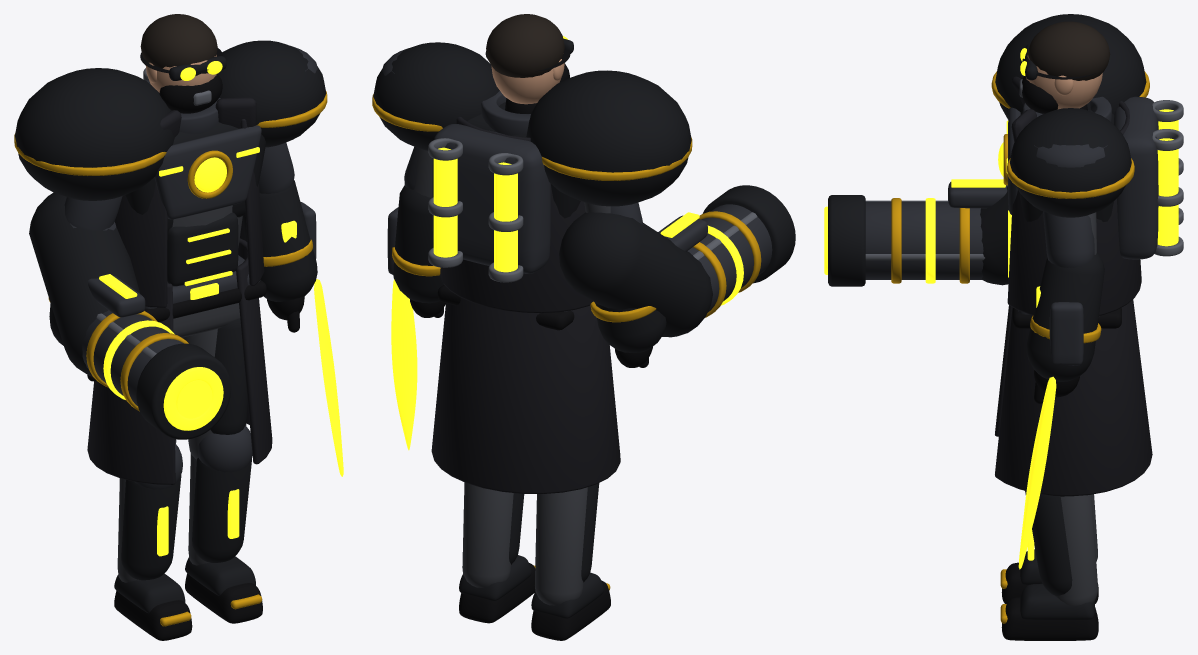
Rendered from engineermk2.glb.
3 views of the same model, side by side, from view 1: azimuth 30°, elevation 25°; view 2: azimuth 150°, elevation 25°; view 3: azimuth 270°, elevation 25° (orthographic). The views are drawn at different scales.
Visible parts, largest first — view 1: RightArmCannon, RightArm_Armor, Chest_Armor, Hips_Belt, LeftArm_Armor, LeftLeg_Armor, Head_Face, RightLeg_Armor, LeftForeArm_Armor, Spine_Armor, RightFoot_Boot, LeftFoot_Boot (+3 smaller); view 2: Hips_Belt, Chest_Armor, RightArmCannon, RightArm_Armor, LeftArm_Armor, RightLeg_Armor, Head_Face, LeftLeg_Armor, LeftForeArm_Armor, LeftBlade, RightFoot_Boot, LeftFoot_Boot (+1 smaller); view 3: Hips_Belt, Chest_Armor, RightArmCannon, LeftArm_Armor, Head_Face, LeftLeg_Armor, LeftForeArm_Armor, RightArm_Armor, LeftBlade, LeftFoot_Boot, RightFoot_Boot, LeftHand_Glove.
Part boxes in pixels (left/top/right/bottom): RightArmCannon: left=29, top=192, right=231, bottom=439; RightArm_Armor: left=14, top=68, right=174, bottom=230; Chest_Armor: left=114, top=68, right=265, bottom=307; Hips_Belt: left=87, top=238, right=272, bottom=484; LeftArm_Armor: left=217, top=40, right=327, bottom=193; LeftLeg_Armor: left=188, top=425, right=252, bottom=565; Head_Face: left=140, top=14, right=226, bottom=113; RightLeg_Armor: left=117, top=443, right=182, bottom=582; LeftForeArm_Armor: left=242, top=180, right=317, bottom=301; Spine_Armor: left=167, top=205, right=242, bottom=286; RightFoot_Boot: left=114, top=573, right=192, bottom=640; LeftFoot_Boot: left=185, top=556, right=262, bottom=623; Hips_Belt: left=431, top=285, right=620, bottom=493; Chest_Armor: left=428, top=91, right=592, bottom=313; RightArmCannon: left=559, top=185, right=795, bottom=337; RightArm_Armor: left=526, top=70, right=692, bottom=223; LeftArm_Armor: left=372, top=42, right=499, bottom=197; RightLeg_Armor: left=535, top=483, right=599, bottom=605; Head_Face: left=485, top=14, right=573, bottom=104; LeftLeg_Armor: left=462, top=482, right=524, bottom=587; LeftForeArm_Armor: left=392, top=185, right=443, bottom=303; LeftBlade: left=387, top=207, right=417, bottom=450; RightFoot_Boot: left=531, top=572, right=610, bottom=640; LeftFoot_Boot: left=459, top=555, right=535, bottom=623; Hips_Belt: left=995, top=299, right=1152, bottom=496; Chest_Armor: left=998, top=76, right=1183, bottom=315; RightArmCannon: left=824, top=179, right=1008, bottom=286; LeftArm_Armor: left=1007, top=108, right=1134, bottom=267; Head_Face: left=1019, top=21, right=1110, bottom=113; LeftLeg_Armor: left=1025, top=491, right=1097, bottom=605; LeftForeArm_Armor: left=1026, top=252, right=1104, bottom=381; RightArm_Armor: left=991, top=14, right=1149, bottom=119; LeftBlade: left=1018, top=302, right=1083, bottom=569; LeftFoot_Boot: left=1000, top=583, right=1098, bottom=640; RightFoot_Boot: left=1000, top=549, right=1098, bottom=603; LeftHand_Glove: left=1034, top=370, right=1079, bottom=403.
Bounding box in the file's own units: 1.01 × 1.91 × 1.05.
